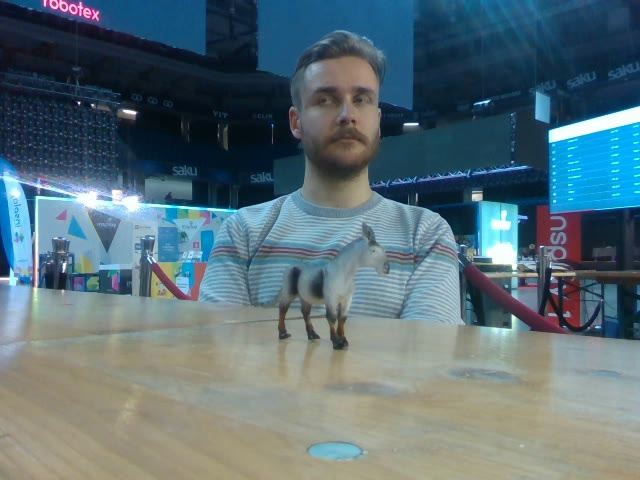toy: (274, 223, 393, 349)
